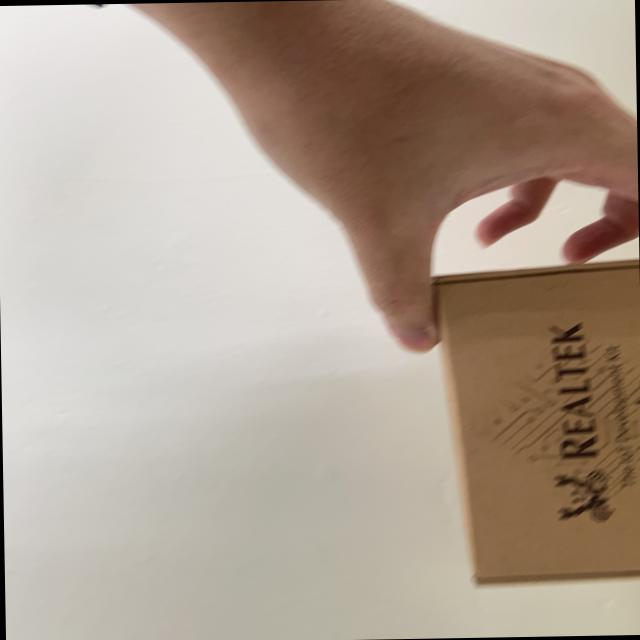box: (418, 249, 640, 599)
